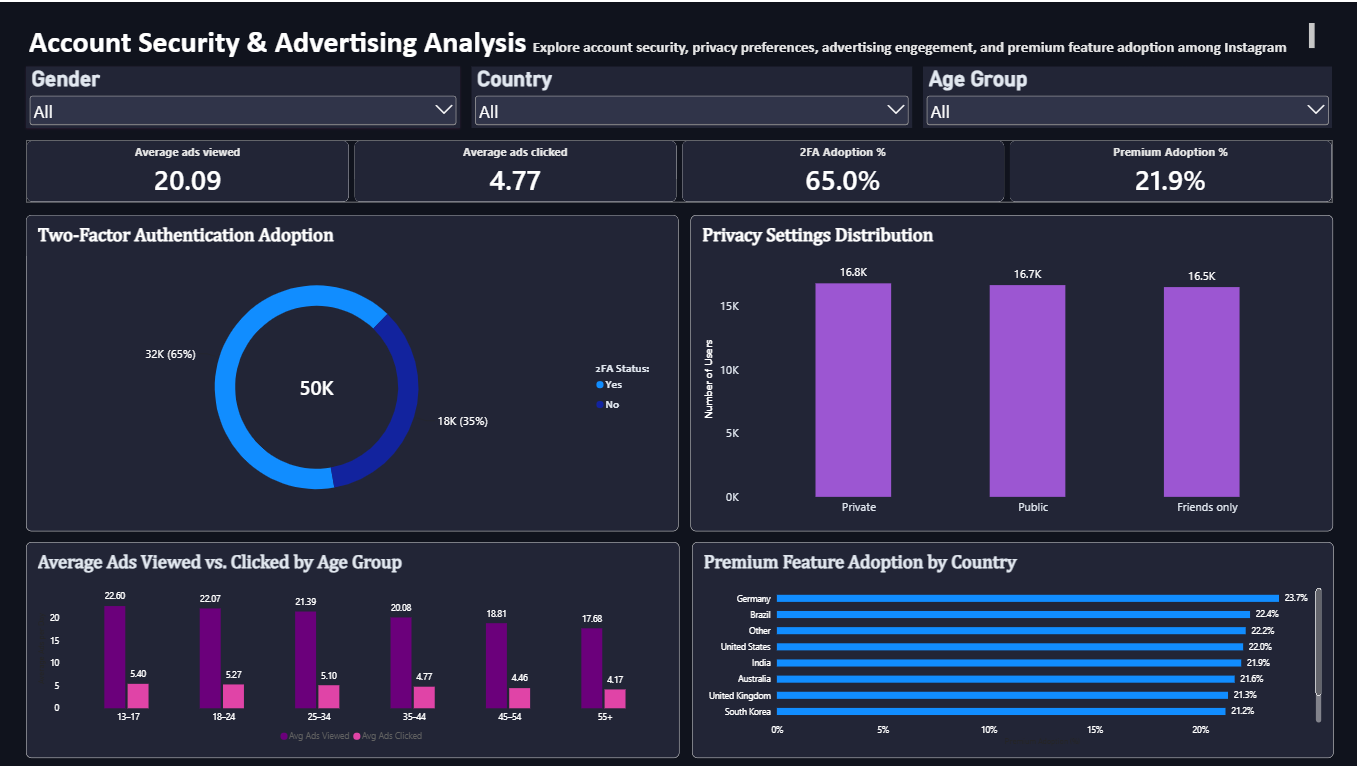

What the dashboard file says about the page in this screenshot:
{"tool":"powerbi","page":{"name":"06 - Account Security & Advertising Analysis","canvas":[1920,1080],"ordinal":5},"visuals":[{"type":"cardVisual","fields":{"Data":["Avg(InstagramUsers.ads_viewed_per_day)","Avg(InstagramUsers.ads_clicked_per_day)","InstagramUsers.2FA Adoption %","InstagramUsers.Premium Adoption %"]},"box":[38.3,194.1,1842.9,88.7],"z":0},{"type":"donutChart","title":"Two-Factor Authentication Adoption","fields":{"Category":["InstagramUsers.two_factor_auth_enabled"],"Y":["Count(InstagramUsers.user_id)"]},"box":[38.3,299.6,920.3,445.7],"z":1000},{"type":"clusteredColumnChart","title":"Privacy Settings Distribution","fields":{"Category":["InstagramUsers.privacy_setting_level"],"Y":["Count(InstagramUsers.user_id)"]},"box":[975.4,299.6,905.9,445.7],"z":2000},{"type":"slicer","fields":{"Values":["InstagramUsers.gender"]},"box":[37.5,91.4,611.9,86.7],"z":3000},{"type":"slicer","fields":{"Values":["InstagramUsers.age_group"]},"box":[1303.5,91.4,576.7,86.7],"z":4000},{"type":"slicer","fields":{"Values":["InstagramUsers.country"]},"box":[665.8,91.4,621.3,86.7],"z":5000},{"type":"textbox","box":[42.3,29.6,1812.5,52.9],"z":6000},{"type":"clusteredColumnChart","title":"Average Ads Viewed vs. Clicked by Age Group","fields":{"Category":["InstagramUsers.age_group"],"Y":["Avg(InstagramUsers.ads_viewed_per_day)","Avg(InstagramUsers.ads_clicked_per_day)"]},"box":[37.5,762,921.4,304.8],"z":8000},{"type":"clusteredBarChart","title":"Premium Feature Adoption by Country","fields":{"Category":["InstagramUsers.country"],"Y":["InstagramUsers.Premium Adoption %"]},"box":[977.6,762,905,304.8],"z":9000}]}

Visuals, with their boxes in screenshot pixels (x1, y1, x2, y2), scaled from the page's 1920x1080 canvas onto the 1357x766 screenshot:
cardVisual - Avg(InstagramUsers.ads_viewed_per_day) x Avg(InstagramUsers.ads_clicked_per_day): {"x1": 27, "y1": 138, "x2": 1330, "y2": 201}
"Two-Factor Authentication Adoption" donutChart: {"x1": 27, "y1": 212, "x2": 678, "y2": 529}
"Privacy Settings Distribution" clusteredColumnChart: {"x1": 689, "y1": 212, "x2": 1330, "y2": 529}
slicer - InstagramUsers.gender: {"x1": 27, "y1": 65, "x2": 459, "y2": 126}
slicer - InstagramUsers.age_group: {"x1": 921, "y1": 65, "x2": 1329, "y2": 126}
slicer - InstagramUsers.country: {"x1": 471, "y1": 65, "x2": 910, "y2": 126}
textbox: {"x1": 30, "y1": 21, "x2": 1311, "y2": 59}
"Average Ads Viewed vs. Clicked by Age Group" clusteredColumnChart: {"x1": 27, "y1": 540, "x2": 678, "y2": 757}
"Premium Feature Adoption by Country" clusteredBarChart: {"x1": 691, "y1": 540, "x2": 1331, "y2": 757}
